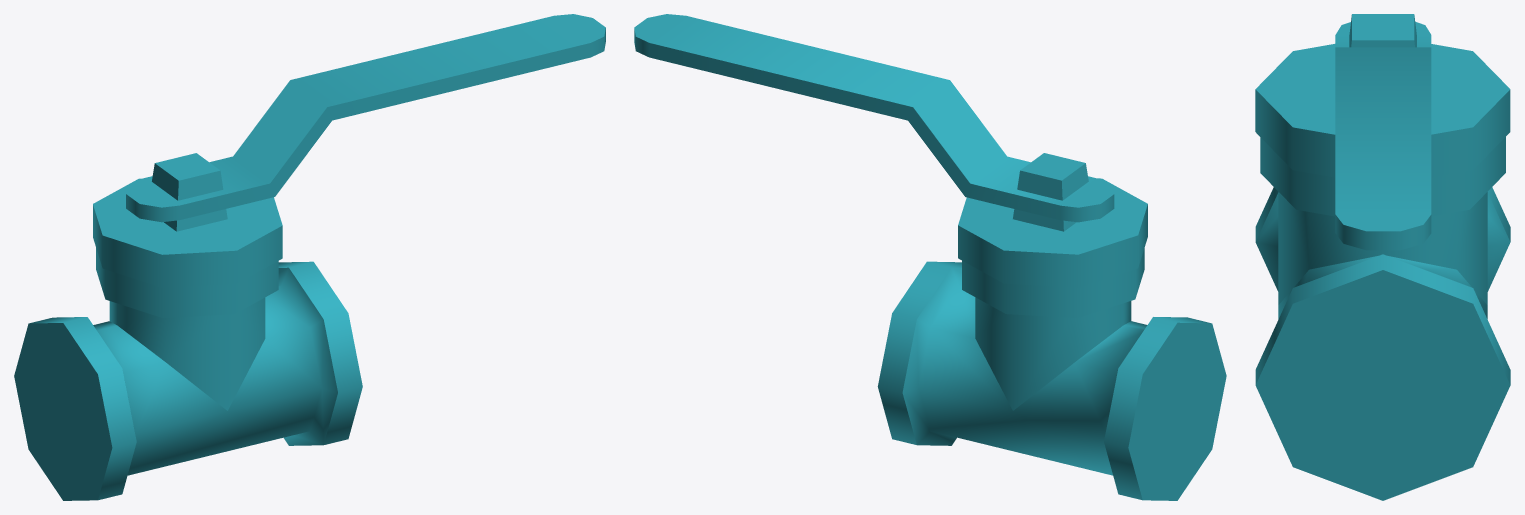
File: Valve_B_Snaps004.FBX
3 renders of one model, left to right at view 1: azimuth 30°, elevation 25°; view 2: azimuth 150°, elevation 25°; view 3: azimuth 270°, elevation 25°, orthographic. The views are drawn at different scales.
Visible parts, largest first — view 1: Geometry_Valve_B_LOD00; view 2: Geometry_Valve_B_LOD00; view 3: Geometry_Valve_B_LOD00.
Part boxes in pixels (left/top/right/bottom): Geometry_Valve_B_LOD00: left=14, top=14, right=605, bottom=500; Geometry_Valve_B_LOD00: left=634, top=14, right=1226, bottom=500; Geometry_Valve_B_LOD00: left=1255, top=14, right=1510, bottom=500.
Size of what is drawn, in the model's own units: 12.35 by 7.64 by 3.92.
